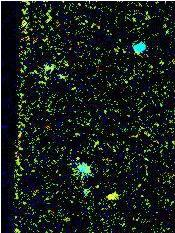star: (96, 181, 126, 211)
